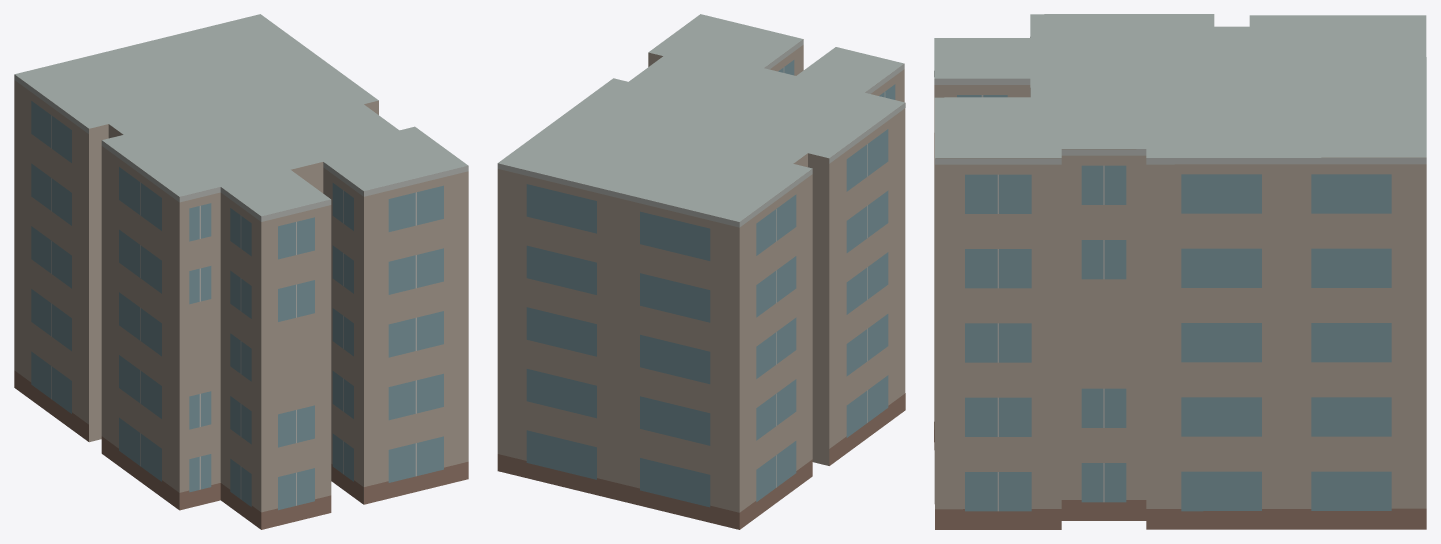
The model's file is survey-upis-32905720.glb.
3 views of the same model, side by side, from view 1: azimuth 30°, elevation 25°; view 2: azimuth 150°, elevation 25°; view 3: azimuth 270°, elevation 25° (orthographic). The views are drawn at different scales.
Visible parts, largest first — view 1: survey-upis-32905720.tmp; view 2: survey-upis-32905720.tmp; view 3: survey-upis-32905720.tmp.
Part boxes in pixels (x1,y1,x2,y2): survey-upis-32905720.tmp: (14,14,468,529); survey-upis-32905720.tmp: (497,14,905,529); survey-upis-32905720.tmp: (934,14,1426,529).
Bounding box in the file's own units: 11.4 × 13.7 × 16.47.
